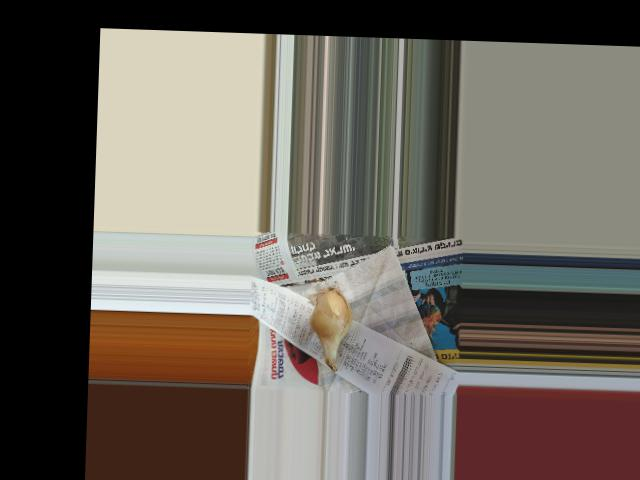onion: (310, 283, 356, 349)
